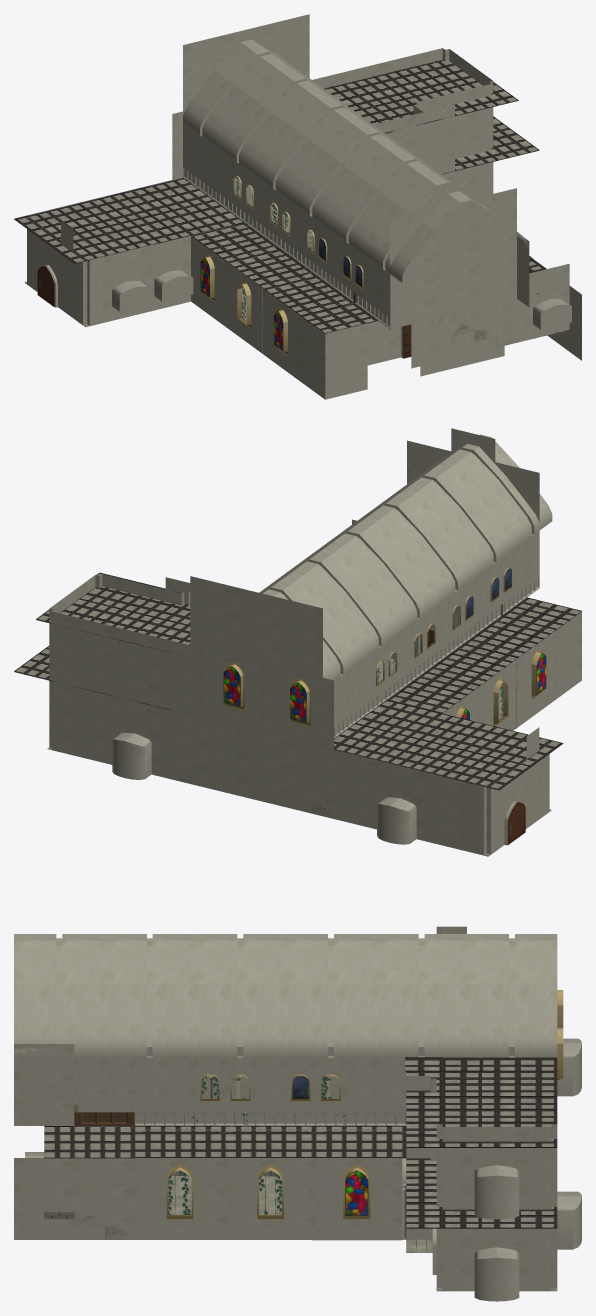
Rendered from church.fbx.
3 renders of one model, top to bottom at view 1: azimuth 30°, elevation 25°; view 2: azimuth 150°, elevation 25°; view 3: azimuth 270°, elevation 25°, orthographic. The views are drawn at different scales.
Parts seen in each view (by area): view 1: SM_CeilingSlant20; view 2: SM_CeilingSlant20; view 3: SM_CeilingSlant20.
Boxes of the visible parts, x1,y1,x2,y2 form: SM_CeilingSlant20: [14, 14, 581, 399]; SM_CeilingSlant20: [14, 428, 581, 856]; SM_CeilingSlant20: [14, 926, 581, 1301].
Size of the model in its own units: 21.99 by 9.06 by 18.81.
